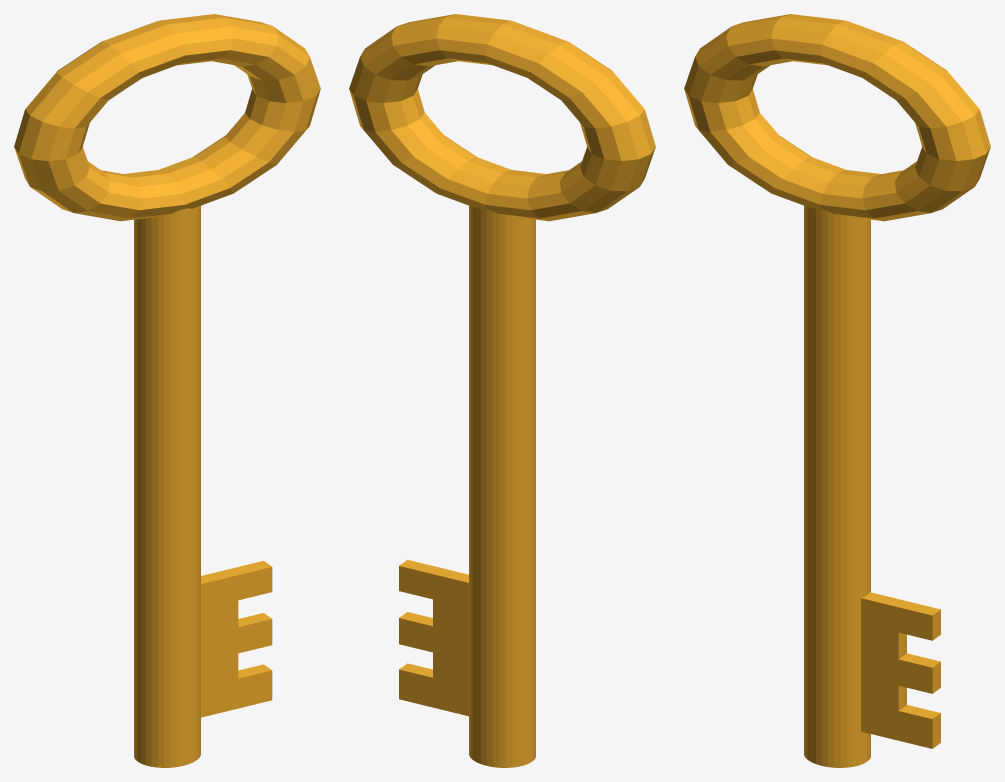
Rendered from GoldKey.fbx.
3 views of the same model, side by side, from view 1: azimuth 30°, elevation 25°; view 2: azimuth 150°, elevation 25°; view 3: azimuth 330°, elevation 25° (orthographic).
Visible parts, largest first — view 1: Cylinder, Torus, Plane; view 2: Cylinder, Torus, Plane; view 3: Cylinder, Torus, Plane.
Boxes of the visible parts, <box> form: Cylinder: <box>134,205,200,767</box>; Torus: <box>14,14,320,221</box>; Plane: <box>201,560,272,717</box>; Cylinder: <box>469,205,535,767</box>; Torus: <box>349,14,655,221</box>; Plane: <box>399,559,468,716</box>; Cylinder: <box>804,205,870,767</box>; Torus: <box>684,14,990,221</box>; Plane: <box>861,592,940,748</box>.
Size of the model in its own units: 53.4 by 125 by 10.68.
